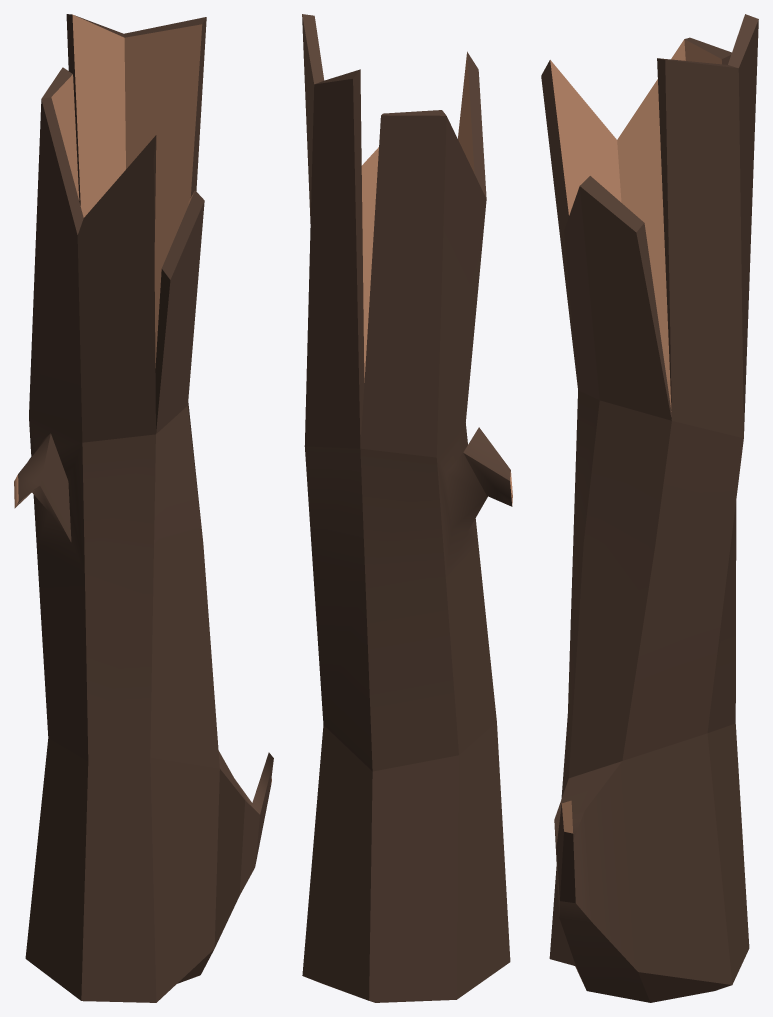
Rendered from branchesAsset.fbx.
3 renders of one model, left to right at view 1: azimuth 30°, elevation 25°; view 2: azimuth 150°, elevation 25°; view 3: azimuth 270°, elevation 25°, orthographic. The views are drawn at different scales.
Parts seen in each view (by area): view 1: pCylinder1; view 2: pCylinder1; view 3: pCylinder1.
Part boxes in pixels (x1=…): pCylinder1: x1=14, y1=14, x2=273, y2=1002; pCylinder1: x1=302, y1=14, x2=512, y2=1002; pCylinder1: x1=541, y1=14, x2=758, y2=1002.
Size of the model in its own units: 0.5106 by 2.04 by 0.4228.
